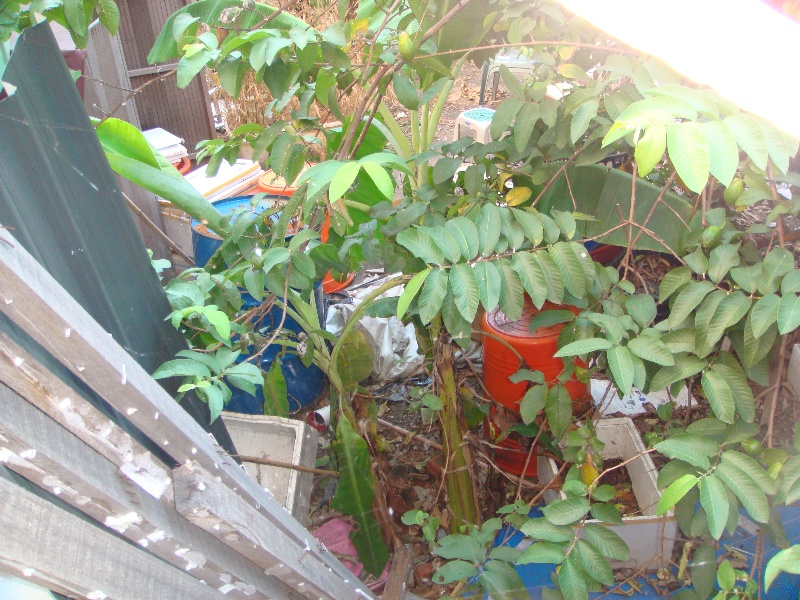bucket: (480, 299, 594, 480)
plastic_bag: (370, 319, 422, 375)
styrofoam: (531, 415, 679, 573), (209, 412, 317, 525)
